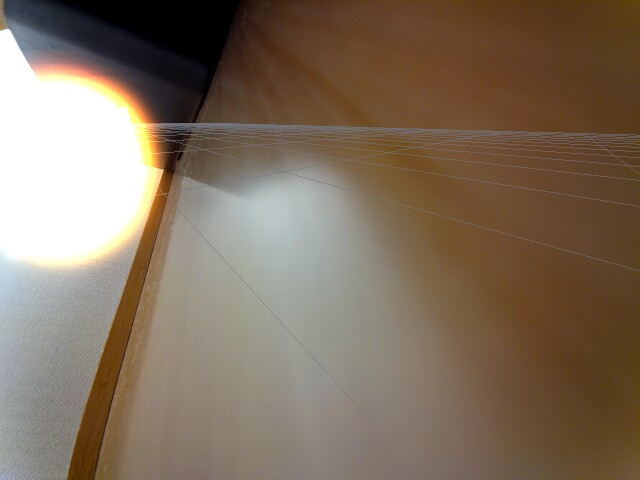firebig: (0, 0, 174, 289)
